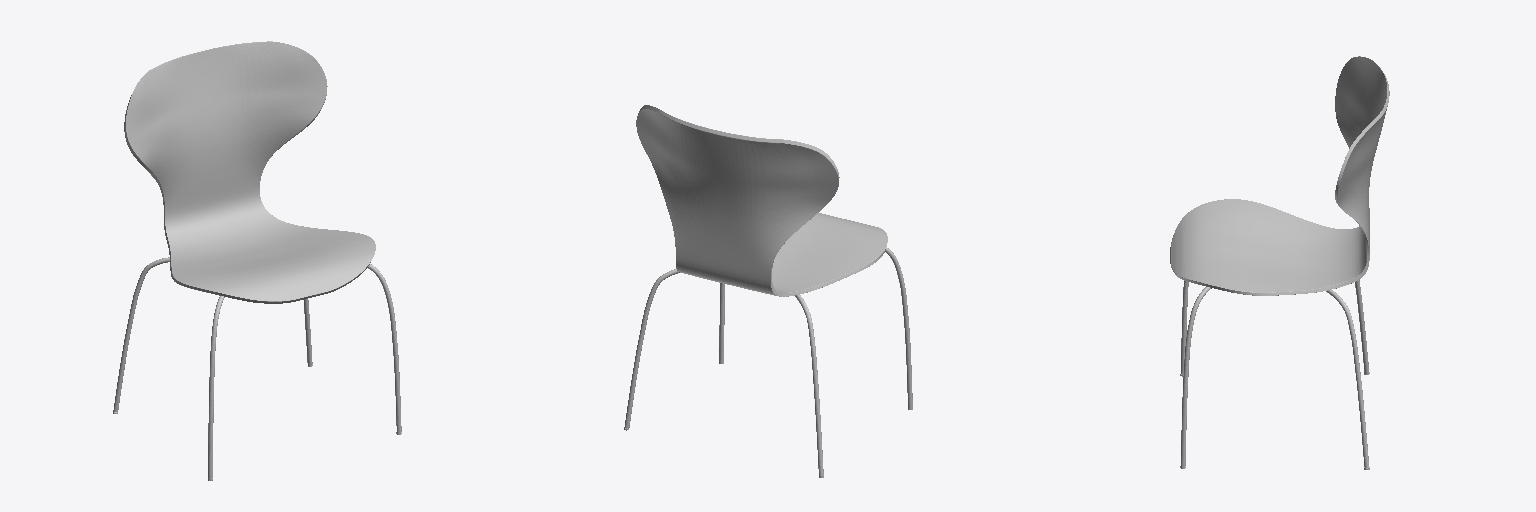
File: chair.obj
3 renders of one model, left to right at view 1: azimuth 30°, elevation 25°; view 2: azimuth 150°, elevation 25°; view 3: azimuth 270°, elevation 25°, orthographic.
Parts seen in each view (by area): view 1: Ch_seat_Mesh.004, Ch_leg_Mesh.005, Ch_leg.001_Mesh.007; view 2: Ch_seat_Mesh.004, Ch_leg.001_Mesh.007, Ch_leg_Mesh.005; view 3: Ch_seat_Mesh.004, Ch_leg.001_Mesh.007, Ch_leg_Mesh.005.
Boxes of the visible parts, x1,y1,x2,y2 form: Ch_seat_Mesh.004: [124, 41, 375, 303]; Ch_leg_Mesh.005: [208, 264, 401, 478]; Ch_leg.001_Mesh.007: [113, 257, 312, 411]; Ch_seat_Mesh.004: [636, 105, 887, 296]; Ch_leg.001_Mesh.007: [624, 269, 823, 475]; Ch_leg_Mesh.005: [719, 247, 912, 407]; Ch_seat_Mesh.004: [1170, 56, 1389, 295]; Ch_leg.001_Mesh.007: [1326, 280, 1368, 467]; Ch_leg_Mesh.005: [1181, 281, 1211, 466].
Size of the model in its own units: 0.5348 by 0.8376 by 0.5022.